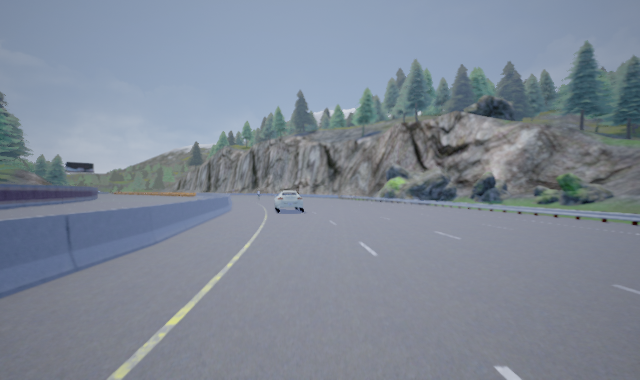vehicle: (273, 190, 304, 213)
